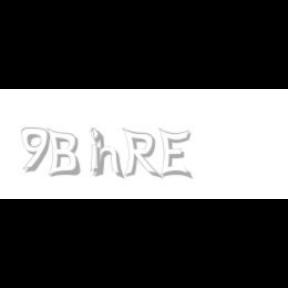9: (20, 128, 50, 172)
B: (46, 128, 80, 178)
E: (158, 128, 191, 180)
R: (122, 128, 160, 180)
h: (92, 128, 126, 180)
i: (89, 128, 105, 176)
